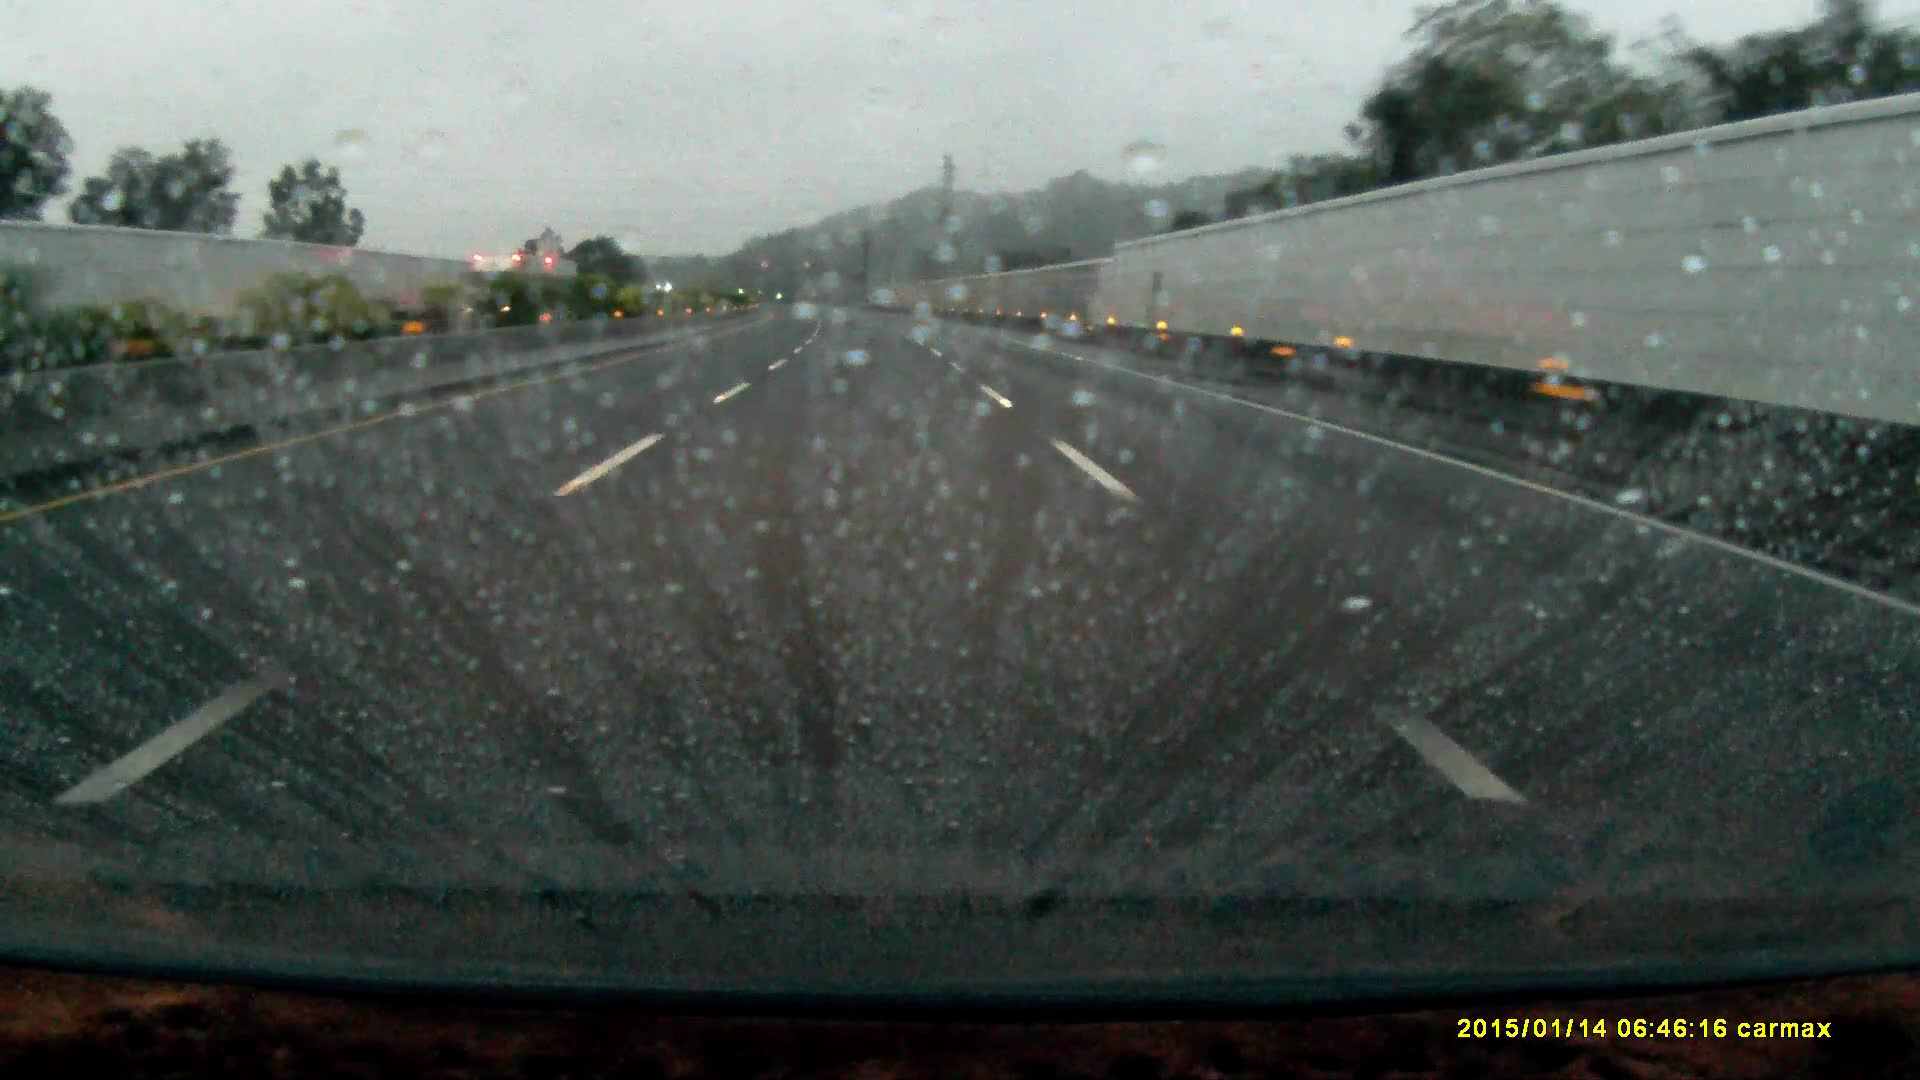vehicle: (462, 247, 574, 315)
